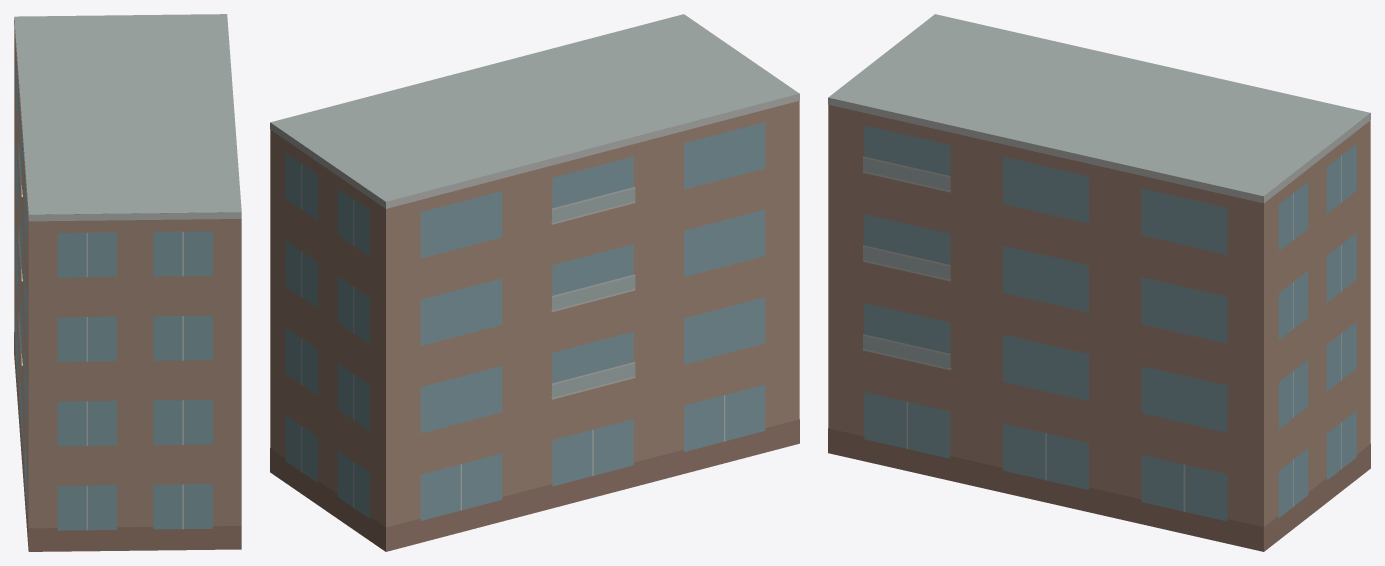
Rendered from survey-upis-32710851.glb.
The picture shows the model from 3 angles, left to right: view 1: azimuth 30°, elevation 25°; view 2: azimuth 150°, elevation 25°; view 3: azimuth 270°, elevation 25°; orthographic projection. The views are drawn at different scales.
Parts seen in each view (by area): view 1: survey-upis-32710851.tmp; view 2: survey-upis-32710851.tmp; view 3: survey-upis-32710851.tmp.
Part boxes in pixels (left/top/right/bottom): survey-upis-32710851.tmp: left=14, top=14, right=241, bottom=551; survey-upis-32710851.tmp: left=270, top=14, right=799, bottom=551; survey-upis-32710851.tmp: left=828, top=14, right=1370, bottom=551.
Size of the model in its own units: 13.43 by 12.2 by 16.89.
